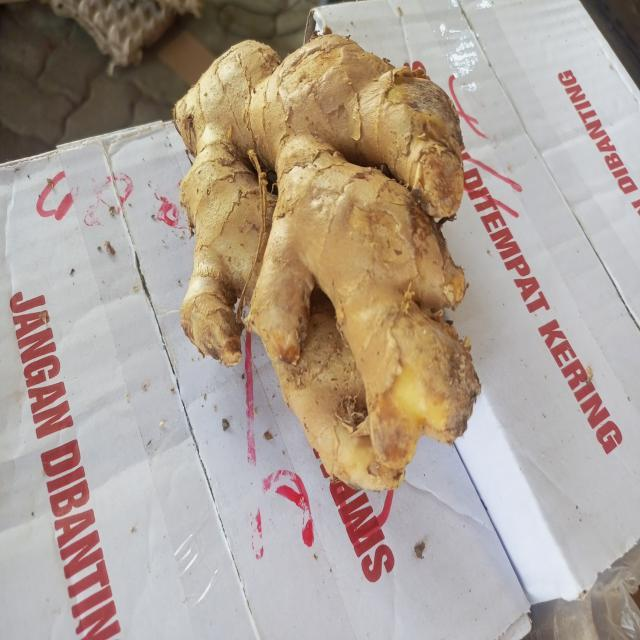ginger: (176, 41, 476, 480)
